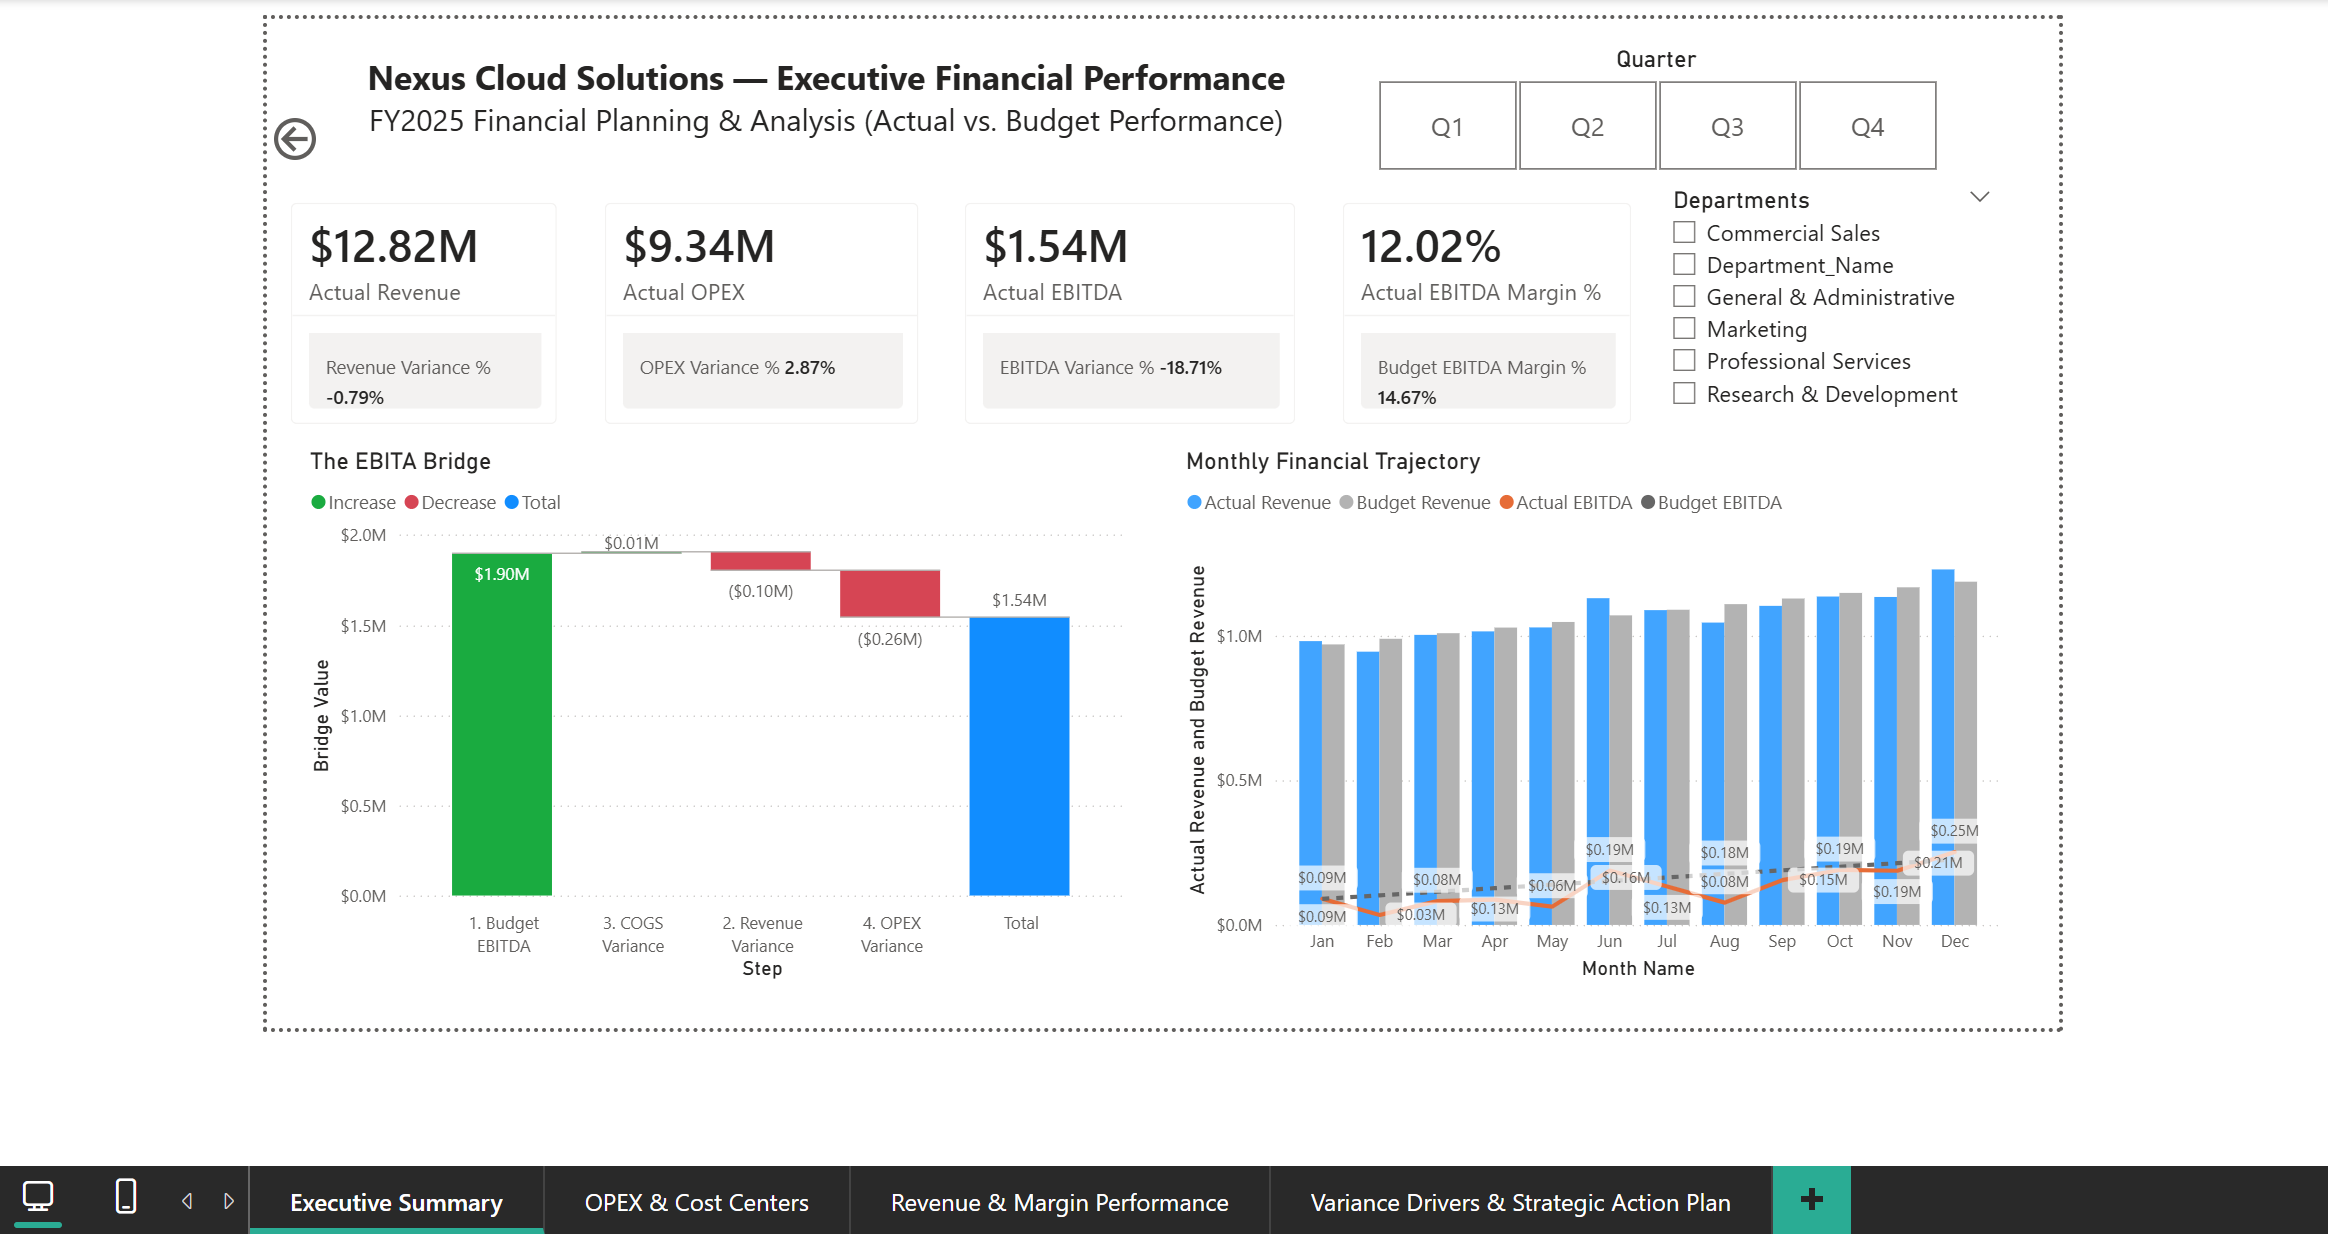

This screenshot's page, from the dashboard's own definition file:
{"tool":"powerbi","page":{"name":"Executive Summary","canvas":[1280,720],"ordinal":0},"visuals":[{"type":"textbox","box":[32,20,736,96],"z":0},{"type":"slicer","title":"Quarter","fields":{"Values":["Dim_Date.Quarter"]},"box":[768,18,448,96],"z":1000},{"type":"slicer","fields":{"Values":["Dim_Department.Department_Name"]},"box":[992,114,252,192],"z":2000},{"type":"cardVisual","fields":{"Data":["_Measures.Actual Revenue"]},"box":[0,114,224,192],"z":3000},{"type":"cardVisual","fields":{"Data":["_Measures.Actual OPEX"]},"box":[224,114,258,192],"z":4000},{"type":"actionButton","box":[0,66,100,40],"z":5000},{"type":"cardVisual","fields":{"Data":["_Measures.Actual EBITDA"]},"box":[482,114,270,192],"z":6000},{"type":"cardVisual","fields":{"Data":["_Measures.Actual EBITDA Margin %"]},"box":[752,114,240,192],"z":7000},{"type":"waterfallChart","title":"The EBITA Bridge","fields":{"Y":["_Measures.Bridge Value"],"Category":["Bridge_Structure.Step"]},"box":[26,306,592,384],"z":8000},{"type":"lineClusteredColumnComboChart","title":"Monthly Financial Trajectory","fields":{"Category":["Dim_Date.Month Name"],"Y":["_Measures.Actual Revenue","_Measures.Budget Revenue"],"Y2":["_Measures.Actual EBITDA","_Measures.Budget EBITDA"]},"box":[652,306,592,384],"z":9000}]}

Visuals, with their boxes on the page's 1280x720 design canvas (x1, y1, x2, y2). These are canvas units, not pixel positions in the 2328x1234 screenshot, which may show the page scaled, cropped or inside an application window:
textbox: crop(32, 20, 768, 116)
"Quarter" slicer: crop(768, 18, 1216, 114)
slicer - Dim_Department.Department_Name: crop(992, 114, 1244, 306)
cardVisual - _Measures.Actual Revenue: crop(0, 114, 224, 306)
cardVisual - _Measures.Actual OPEX: crop(224, 114, 482, 306)
actionButton: crop(0, 66, 100, 106)
cardVisual - _Measures.Actual EBITDA: crop(482, 114, 752, 306)
cardVisual - _Measures.Actual EBITDA Margin %: crop(752, 114, 992, 306)
"The EBITA Bridge" waterfallChart: crop(26, 306, 618, 690)
"Monthly Financial Trajectory" lineClusteredColumnComboChart: crop(652, 306, 1244, 690)
